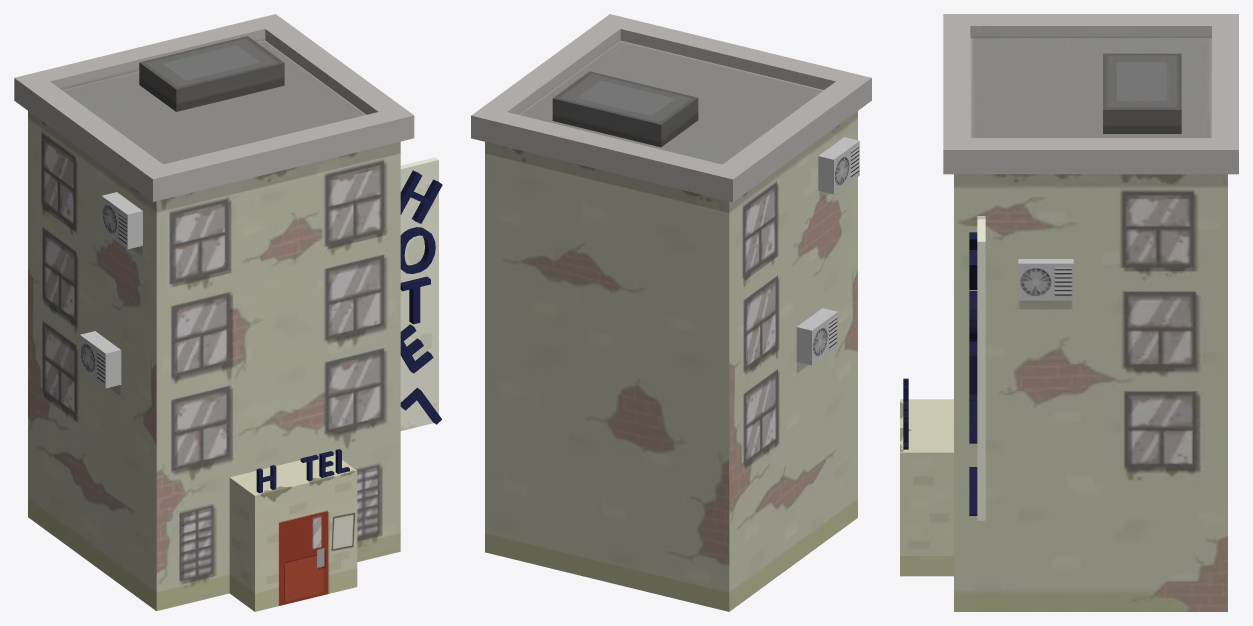
The model's file is city_hotel.glb.
The picture shows the model from 3 angles, left to right: view 1: azimuth 30°, elevation 25°; view 2: azimuth 150°, elevation 25°; view 3: azimuth 270°, elevation 25°; orthographic projection. The views are drawn at different scales.
Parts seen in each view (by area): view 1: polySurface647; view 2: polySurface647; view 3: polySurface647.
Boxes of the visible parts, <box> form: polySurface647: <box>14,14,442,611</box>; polySurface647: <box>471,14,871,611</box>; polySurface647: <box>900,14,1238,611</box>.
Bounding box in the file's own units: 7.17 × 9.95 × 6.39.
1 material, 1 textured.
